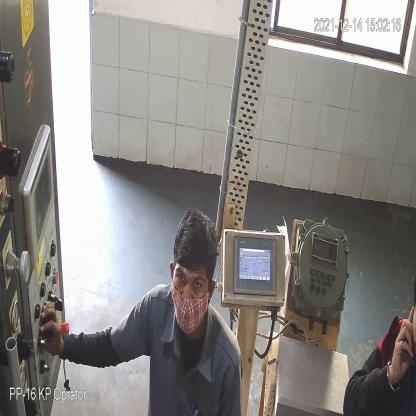no_goggles: (174, 263, 208, 295)
